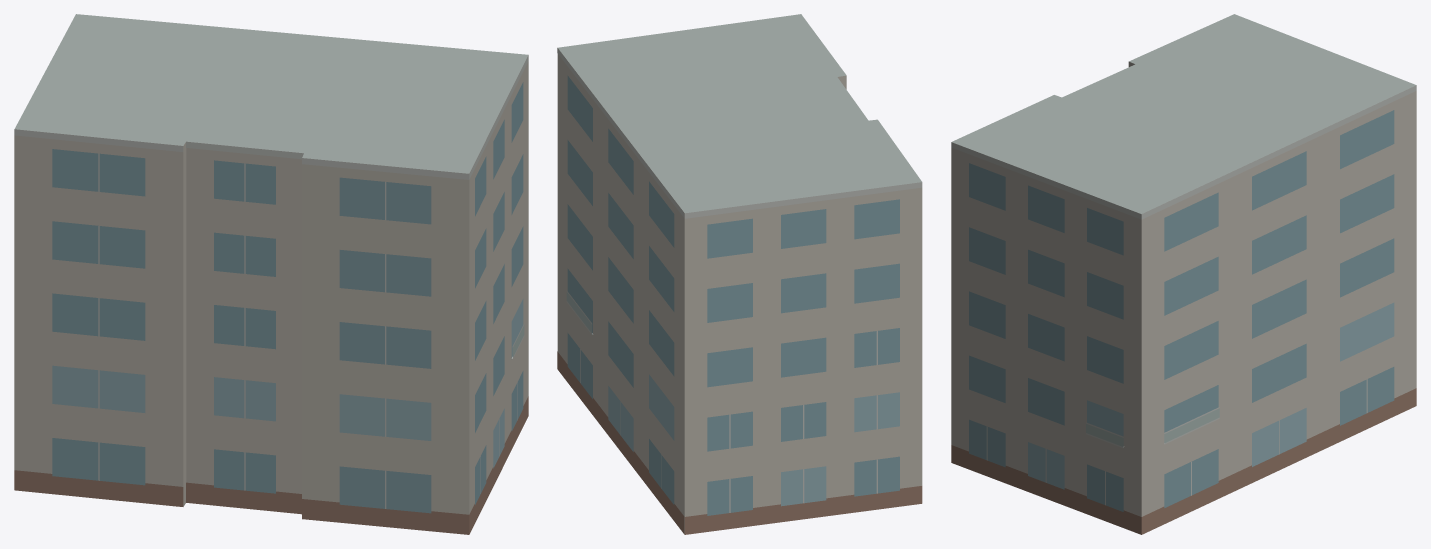
The model's file is survey-upis-33004895.glb.
3 views of the same model, side by side, from view 1: azimuth 30°, elevation 25°; view 2: azimuth 150°, elevation 25°; view 3: azimuth 270°, elevation 25° (orthographic). The views are drawn at different scales.
Visible parts, largest first — view 1: survey-upis-33004895.tmp; view 2: survey-upis-33004895.tmp; view 3: survey-upis-33004895.tmp.
Part boxes in pixels (x1=…): survey-upis-33004895.tmp: x1=14, y1=14, x2=528, y2=534; survey-upis-33004895.tmp: x1=557, y1=14, x2=922, y2=534; survey-upis-33004895.tmp: x1=951, y1=14, x2=1416, y2=534.
Bounding box in the file's own units: 19.02 × 14.2 × 18.68.
